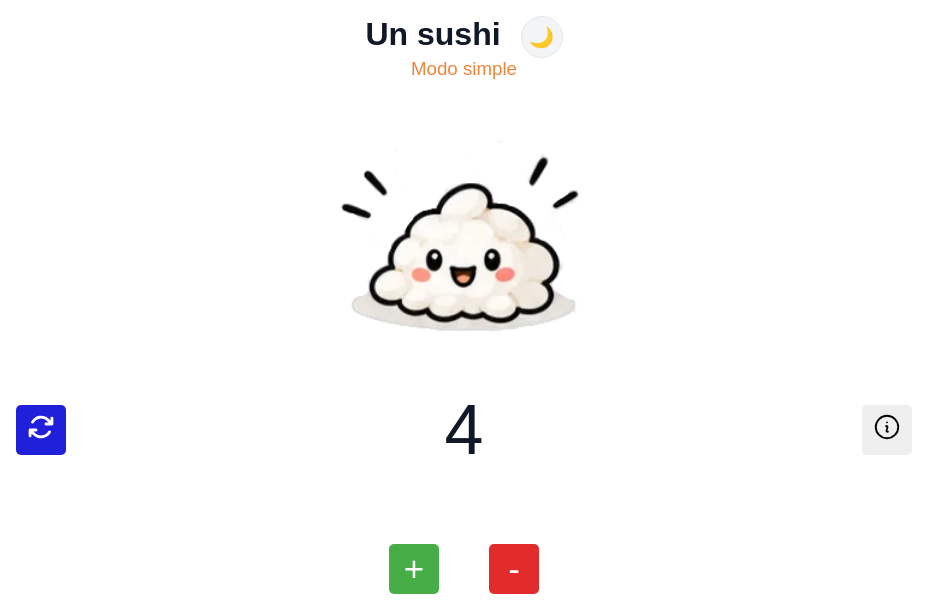
SimpleCounter › should show the more info when the button is clicked
Click the 3rd button.
click(887, 430)  # box 862,405 -> 912,455
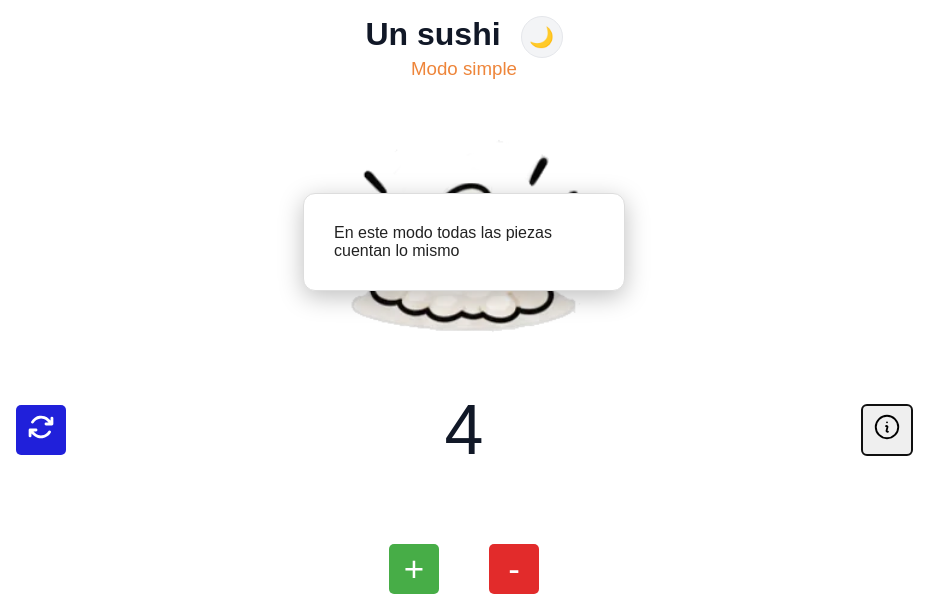
Now the element with class "more-info" is shown, box 303,193 -> 625,291
